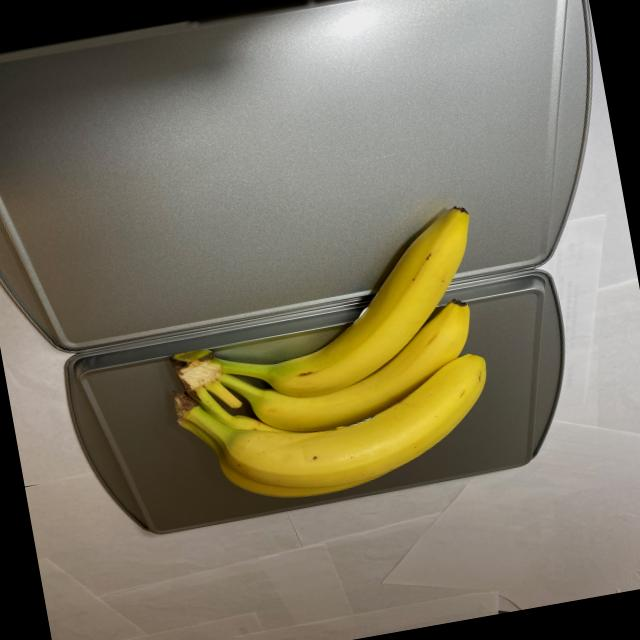banana: (143, 204, 518, 520)
